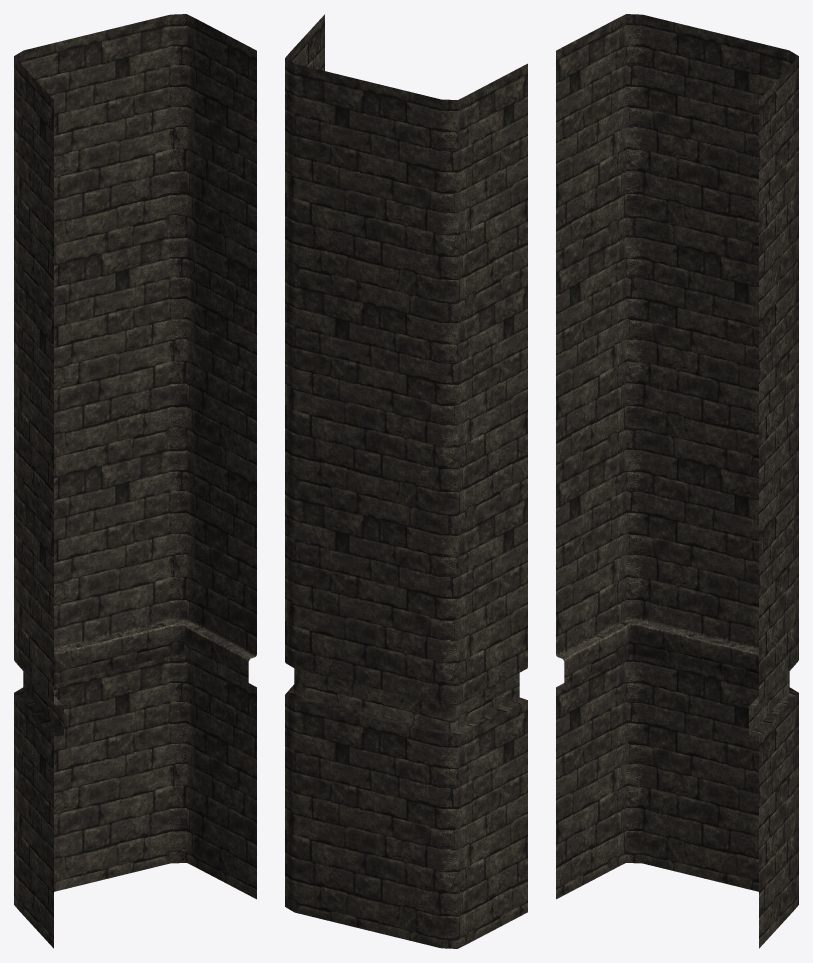
File: wallBlockIS.fbx
3 views of the same model, side by side, from view 1: azimuth 30°, elevation 25°; view 2: azimuth 150°, elevation 25°; view 3: azimuth 330°, elevation 25° (orthographic).
Parts seen in each view (by area): view 1: polySurface87; view 2: polySurface87; view 3: polySurface87.
Part boxes in pixels (x1=…): polySurface87: x1=14, y1=14, x2=256, y2=948; polySurface87: x1=285, y1=14, x2=527, y2=948; polySurface87: x1=556, y1=14, x2=798, y2=948.
Bounding box in the file's own units: 2 × 8 × 1.01.
1 material, 1 textured.
